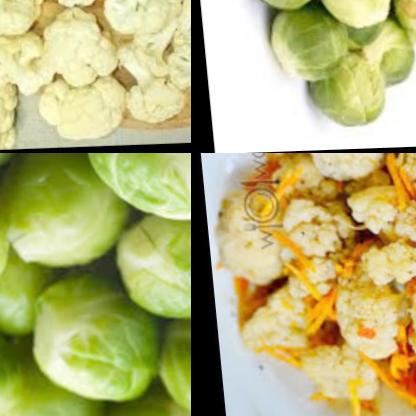brus capusta: (0, 153, 191, 416), (224, 0, 416, 128)
cayliflower: (0, 0, 191, 136), (265, 167, 360, 314), (316, 239, 411, 362), (200, 175, 287, 284), (227, 282, 317, 361), (293, 340, 387, 409), (349, 197, 416, 291), (336, 153, 416, 229), (388, 237, 416, 373), (258, 153, 393, 179)
